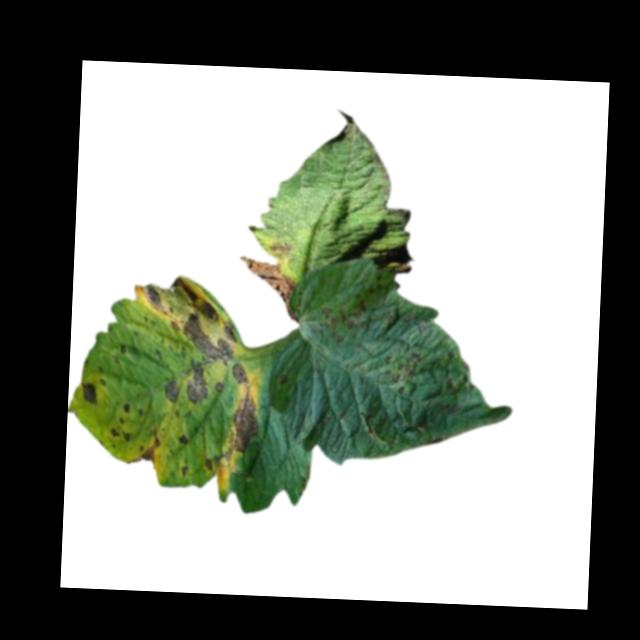Early_blight: (132, 273, 243, 365), (239, 257, 297, 321), (309, 295, 370, 341), (225, 386, 262, 453), (380, 346, 420, 394), (183, 360, 210, 406), (138, 430, 160, 463), (108, 426, 133, 445), (230, 360, 249, 385), (79, 380, 98, 403), (161, 378, 179, 402), (270, 239, 290, 257), (203, 454, 215, 471), (120, 400, 131, 414), (178, 462, 188, 477), (176, 432, 188, 444), (277, 372, 289, 384), (215, 380, 222, 391)
